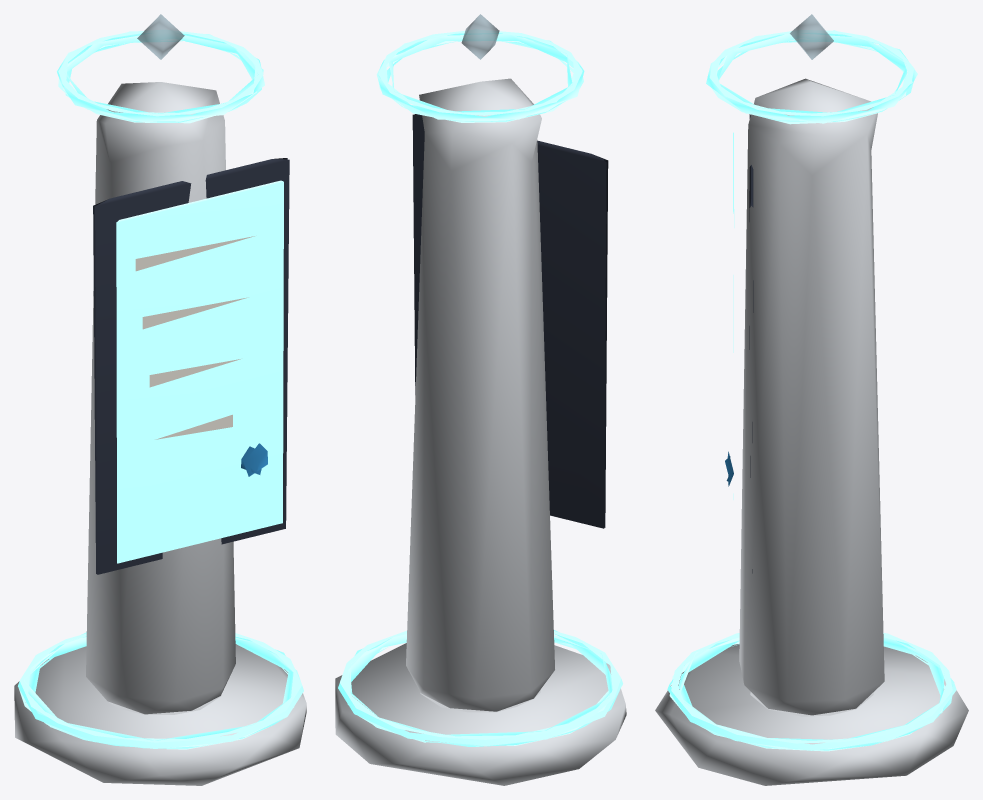
File: lod_holo_totem.glb
The picture shows the model from 3 angles, left to right: view 1: azimuth 30°, elevation 25°; view 2: azimuth 150°, elevation 25°; view 3: azimuth 270°, elevation 25°; orthographic projection.
Parts seen in each view (by area): view 1: holo_totem; view 2: holo_totem; view 3: holo_totem.
Part boxes in pixels (box(x1,y1,x2,y2)): holo_totem: box(14, 14, 306, 785); holo_totem: box(335, 14, 626, 785); holo_totem: box(655, 14, 968, 785).
Bounding box in the file's own units: 1.14 × 2.87 × 1.14.
